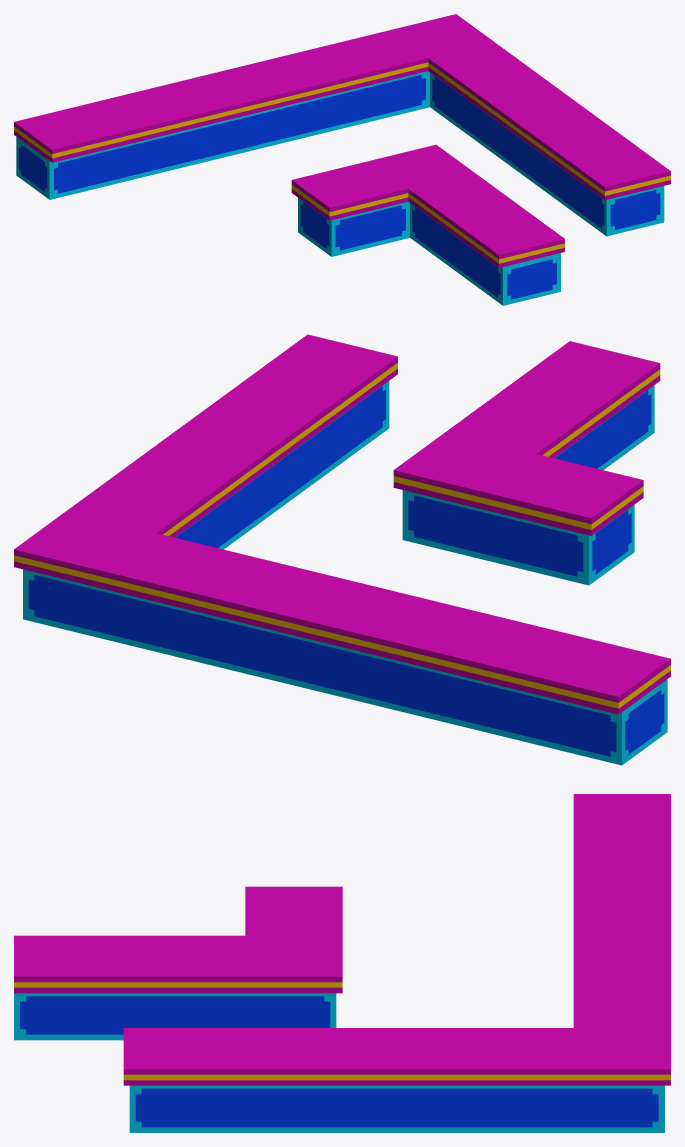
Rendered from level_1.4.obj.
3 views of the same model, one above another, from view 1: azimuth 30°, elevation 25°; view 2: azimuth 150°, elevation 25°; view 3: azimuth 270°, elevation 25° (orthographic). The views are drawn at different scales.
Size of the model in its own units: 10.7 by 1.2 by 10.8.
1 material, 1 textured.
